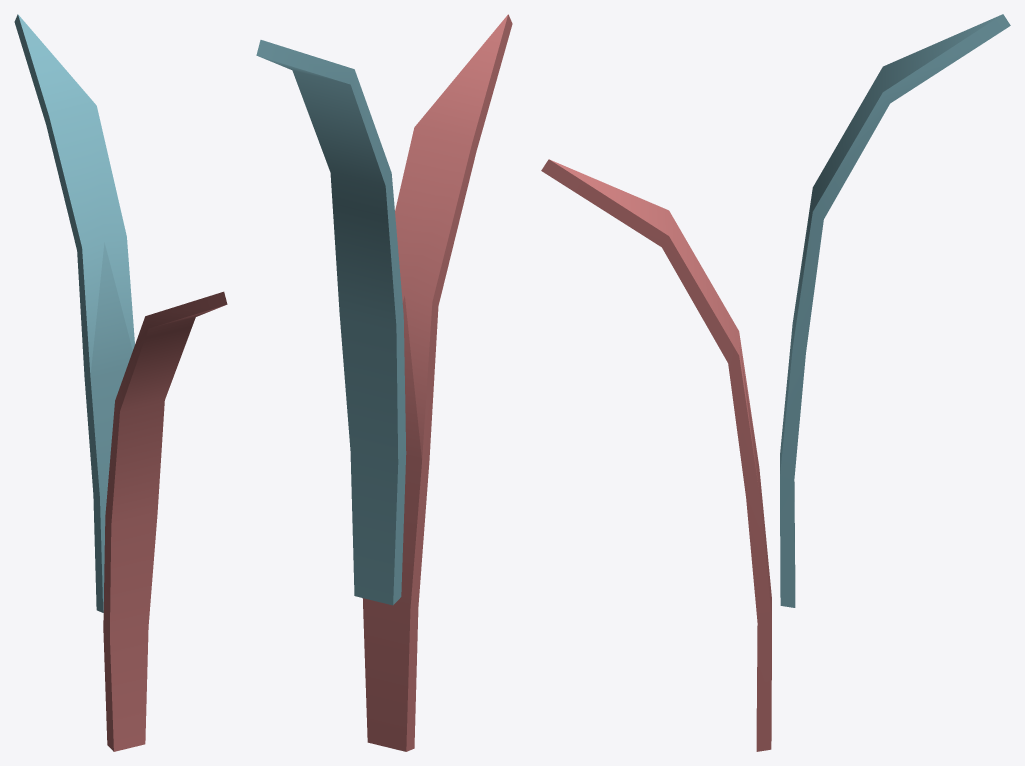
Rendered from Grass.fbx.
The picture shows the model from 3 angles, left to right: view 1: azimuth 30°, elevation 25°; view 2: azimuth 150°, elevation 25°; view 3: azimuth 270°, elevation 25°; orthographic projection. The views are drawn at different scales.
Visible parts, largest first — view 1: pCube5; view 2: pCube5; view 3: pCube5.
Boxes of the visible parts, x1,y1,x2,y2 form: pCube5: [14, 14, 227, 751]; pCube5: [256, 14, 512, 751]; pCube5: [541, 14, 1010, 751].
Size of the model in its own units: 4.58 by 60.33 by 35.25.
